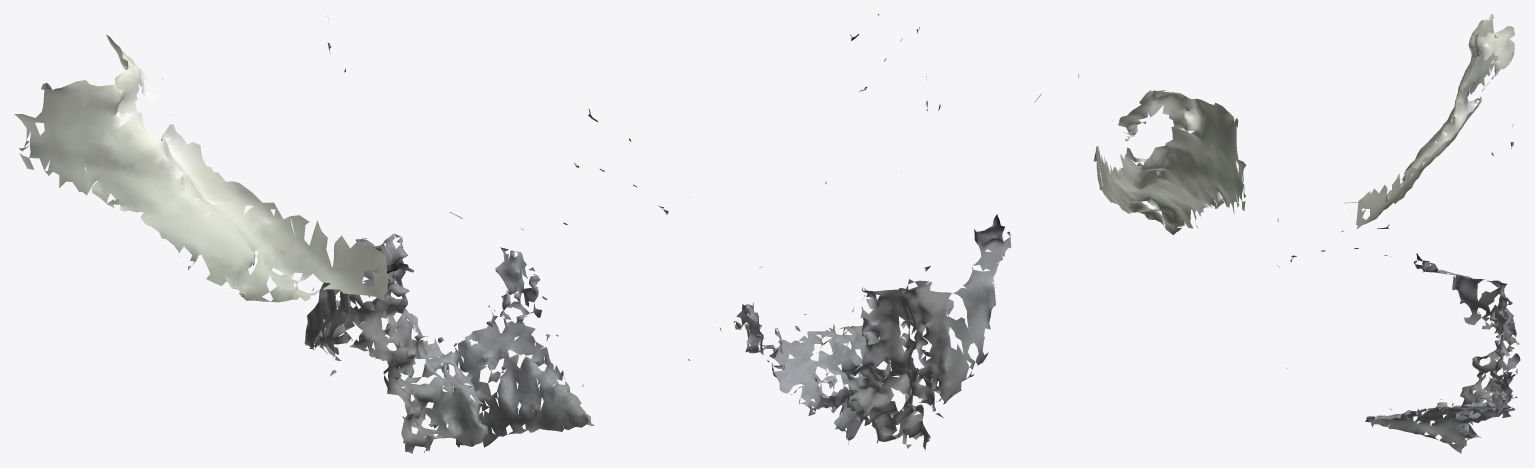
Rendered from mesh_gen.obj.
3 views of the same model, side by side, from view 1: azimuth 30°, elevation 25°; view 2: azimuth 150°, elevation 25°; view 3: azimuth 270°, elevation 25° (orthographic). The views are drawn at different scales.
Size of the model in its own units: 4.78 by 4.07 by 2.86.
Materials: 1 (1 with a texture image).
